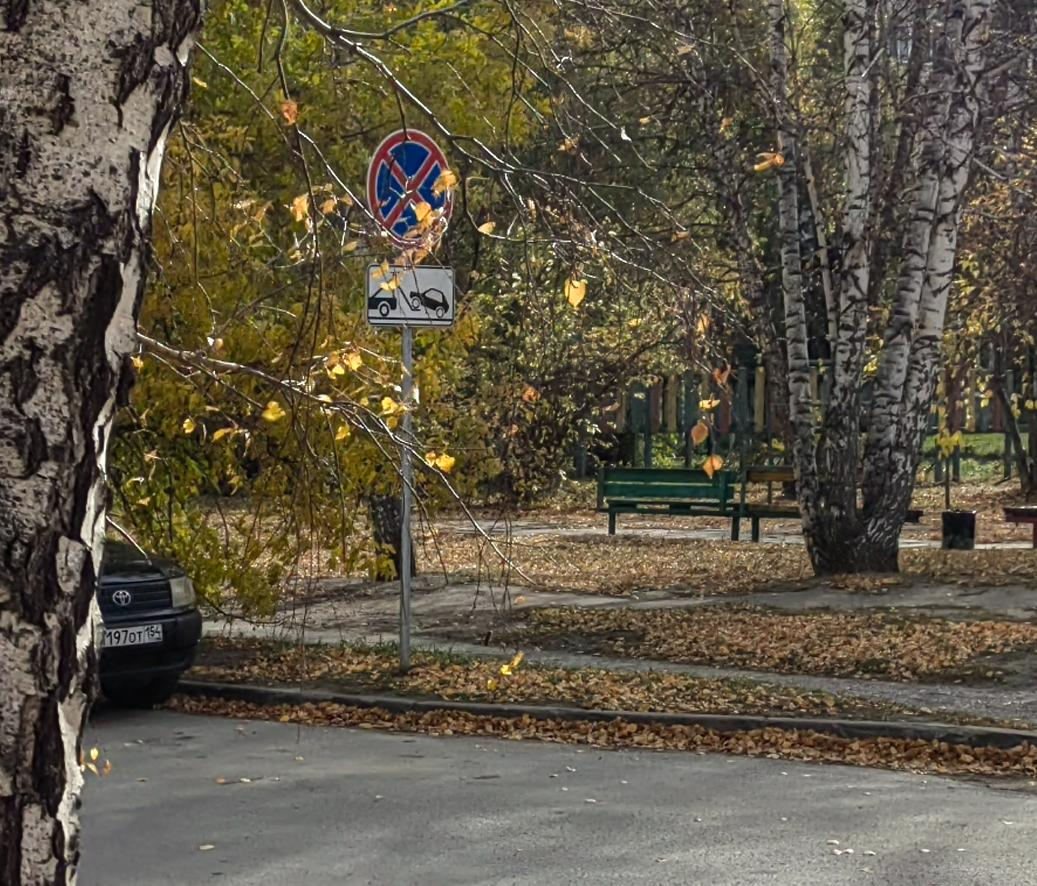obstructed_road_sign: (366, 130, 454, 250), (366, 264, 454, 326)
